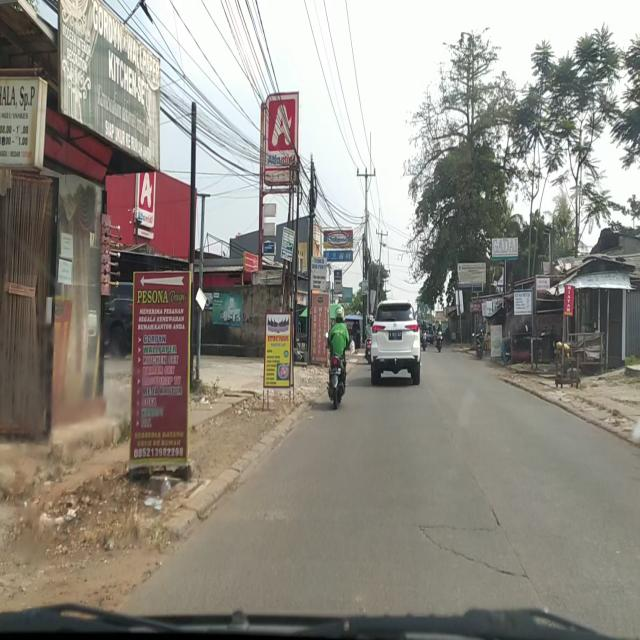Sewer Cover: (419, 533, 527, 578), (412, 520, 500, 533)
